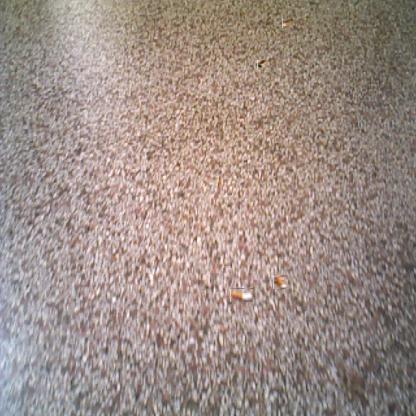dirty: (230, 288, 253, 302), (274, 275, 288, 290), (257, 60, 268, 71), (282, 18, 293, 28)
